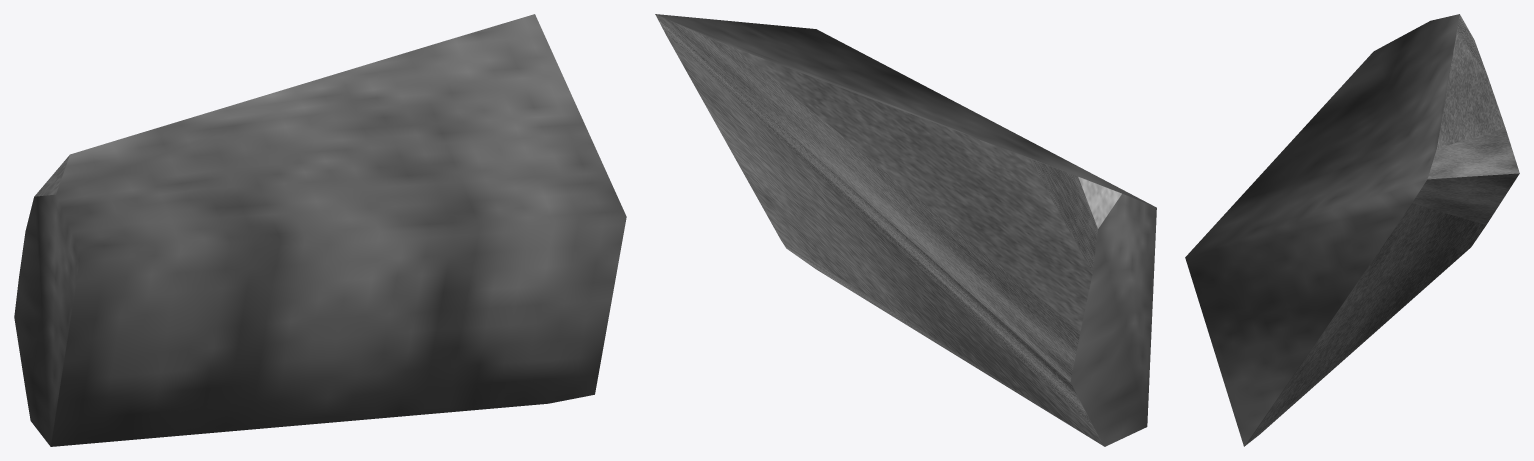
File: leg_1_cell_011.fbx
The picture shows the model from 3 angles, left to right: view 1: azimuth 30°, elevation 25°; view 2: azimuth 150°, elevation 25°; view 3: azimuth 270°, elevation 25°; orthographic projection. The views are drawn at different scales.
Parts seen in each view (by area): view 1: leg_1_cell.011; view 2: leg_1_cell.011; view 3: leg_1_cell.011.
Boxes of the visible parts, box(x1,y1,x2,y2) form: leg_1_cell.011: box(14, 14, 626, 446); leg_1_cell.011: box(655, 14, 1156, 446); leg_1_cell.011: box(1185, 14, 1519, 446).
Bounding box in the file's own units: 20.37 × 12.11 × 12.67.
